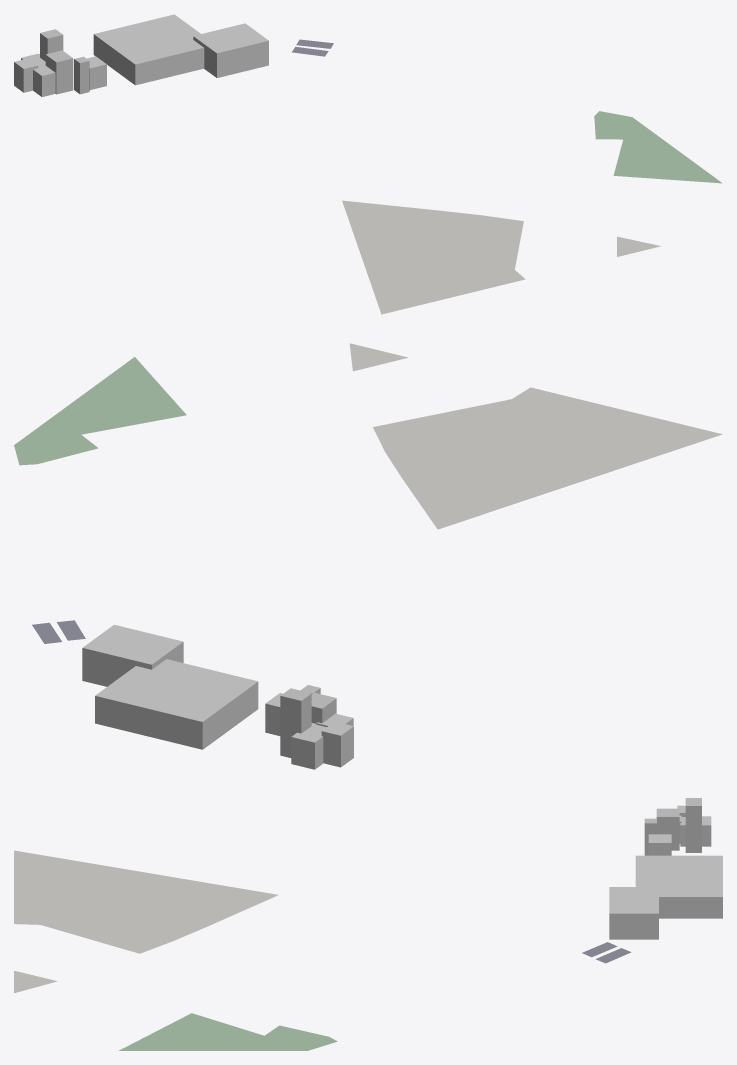
File: 104_111_mid.glb
3 renders of one model, top to bottom at view 1: azimuth 30°, elevation 25°; view 2: azimuth 150°, elevation 25°; view 3: azimuth 270°, elevation 25°, orthographic. The views are drawn at different scales.
Bounding box in the file's own units: 376 × 37.53 × 511.
